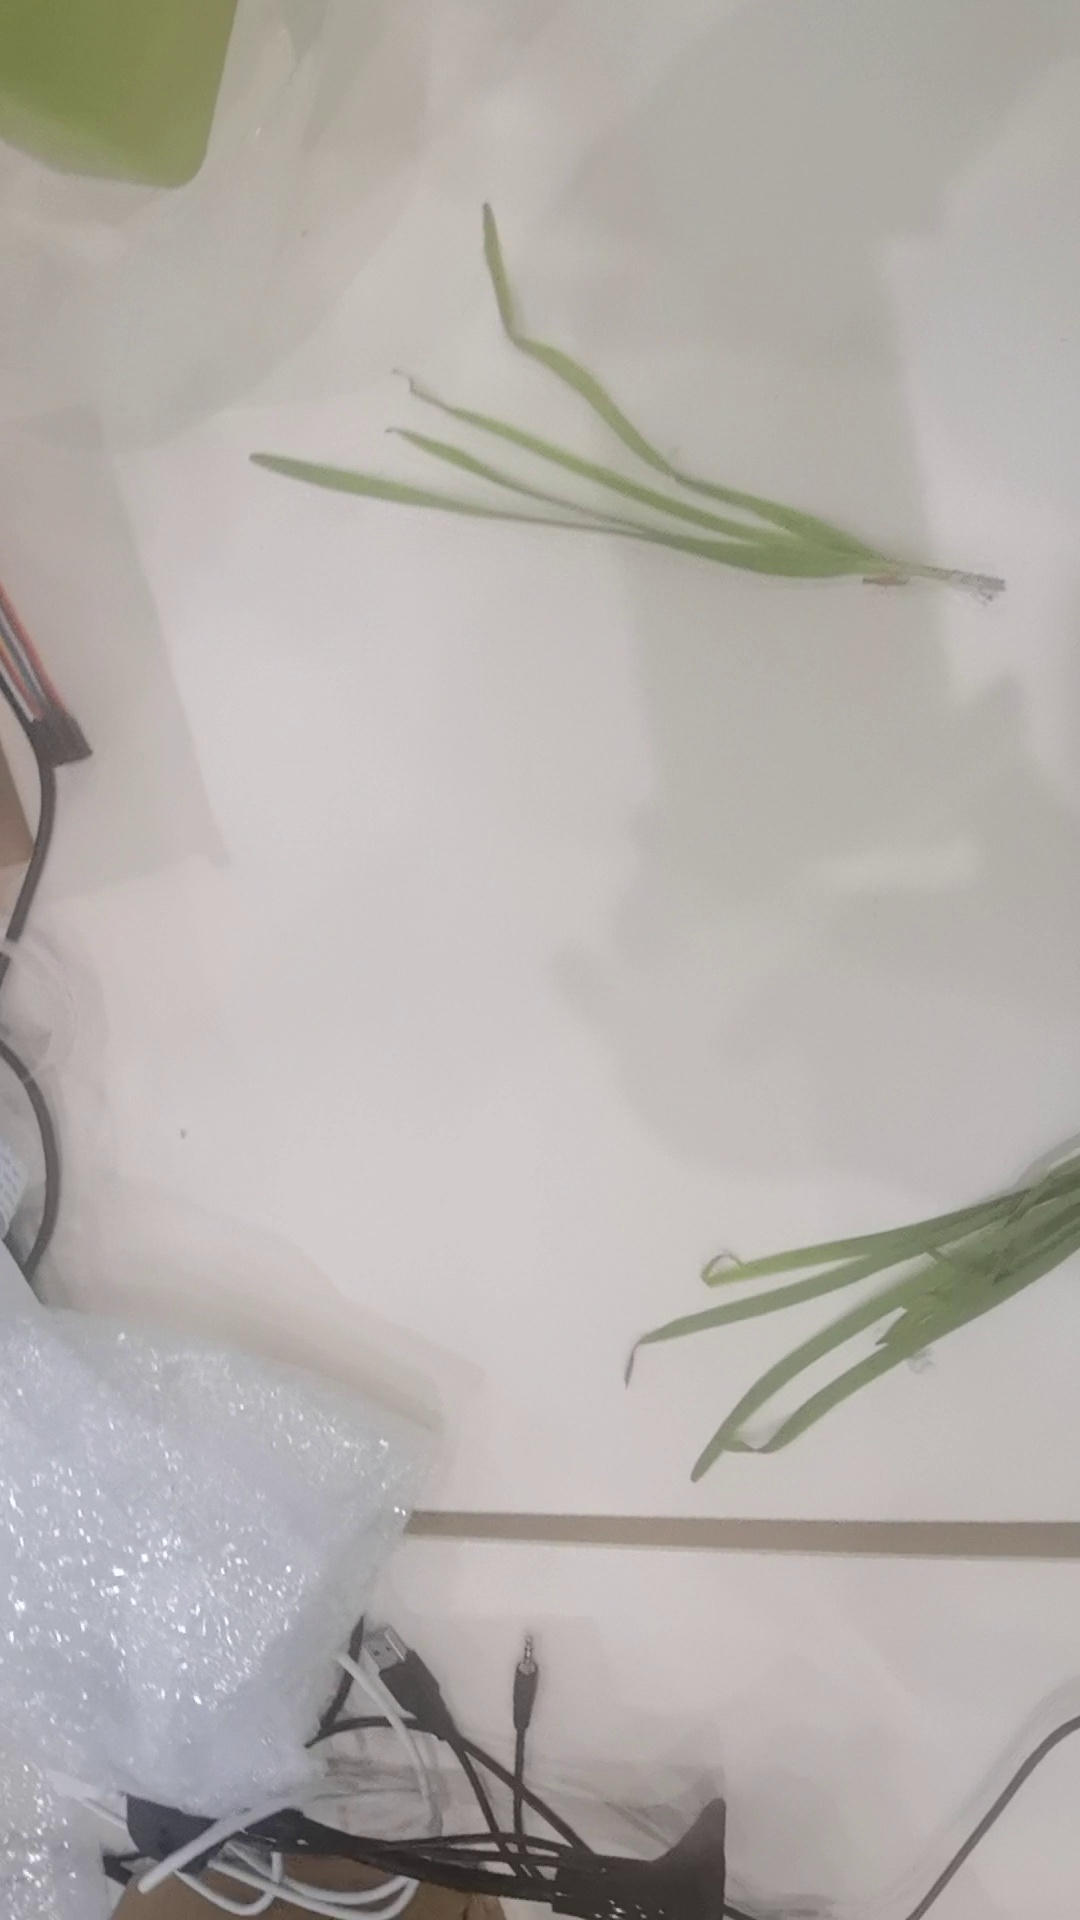chives: (229, 190, 1011, 596)
